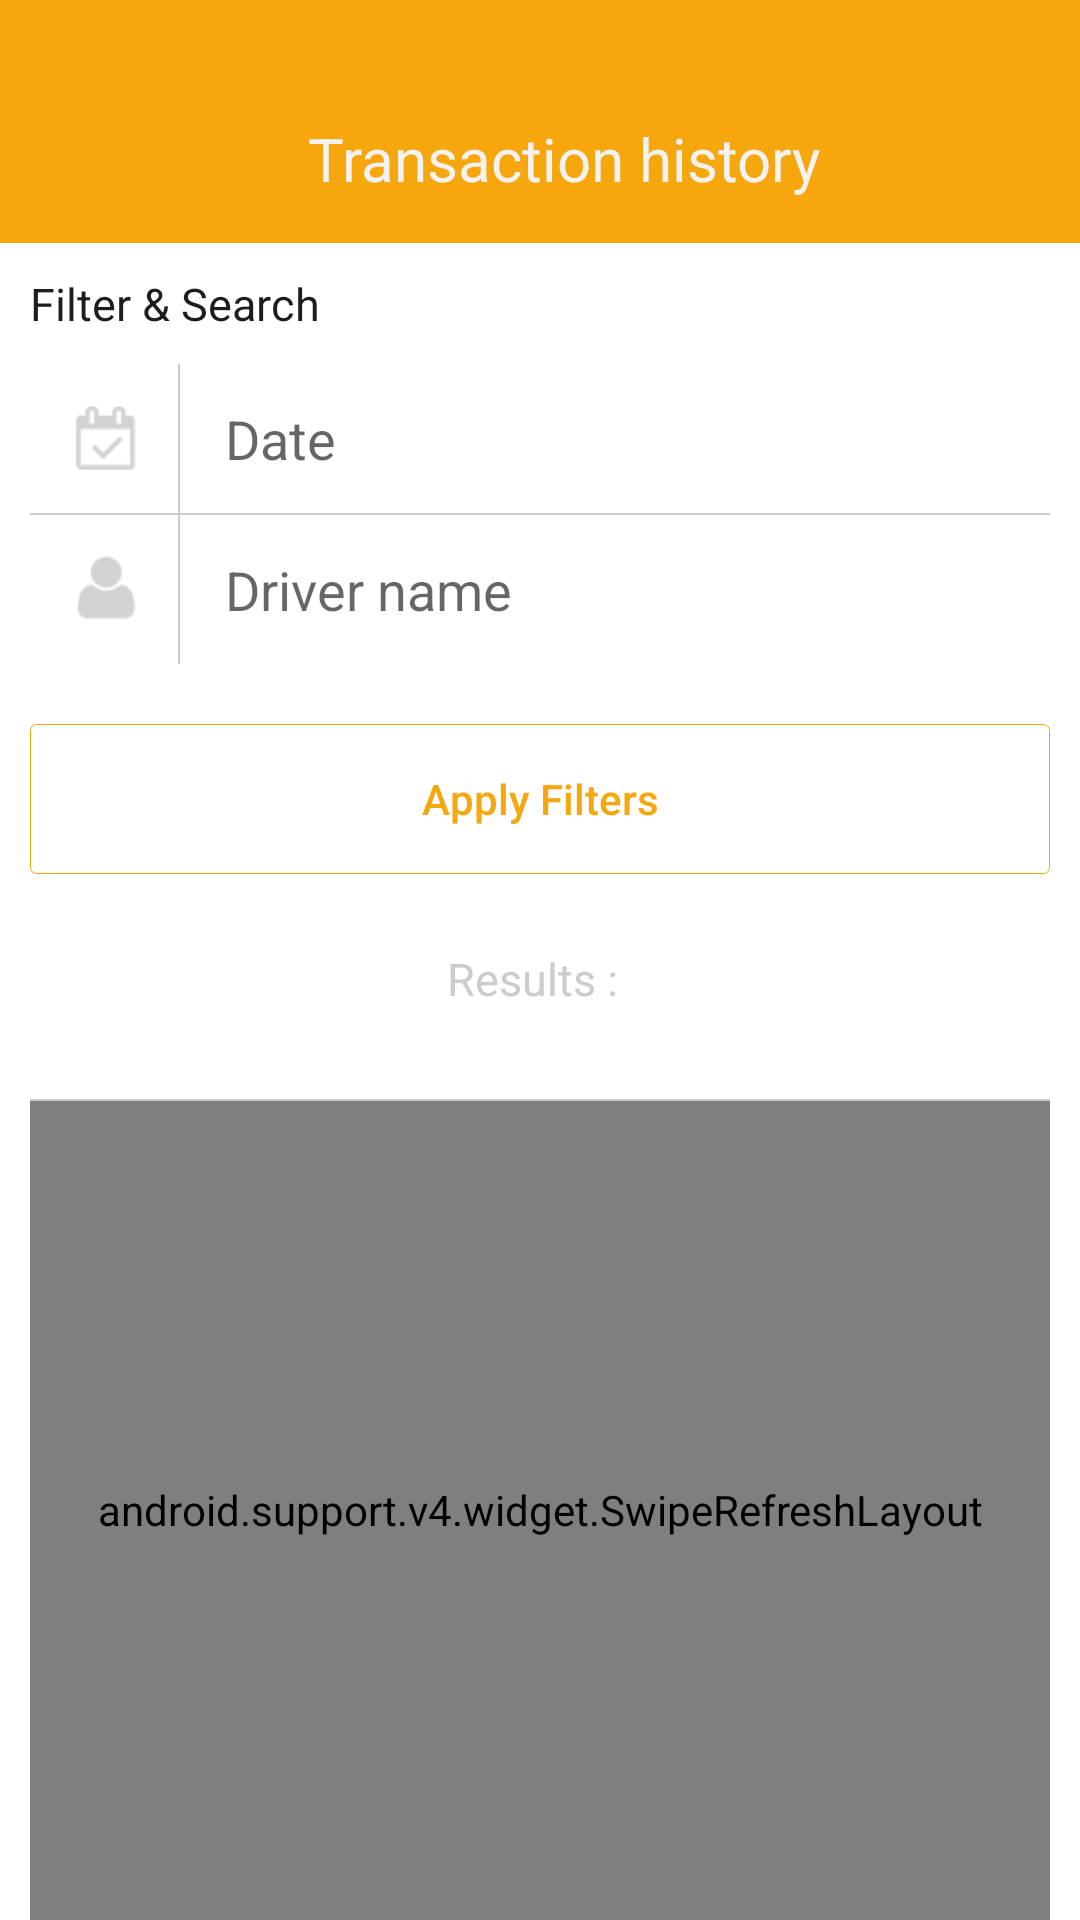

Screen size 1080 × 1920. Icon name, then its center in pixels as point (x, y):
calendar: point (105, 438)
user: point (106, 587)
